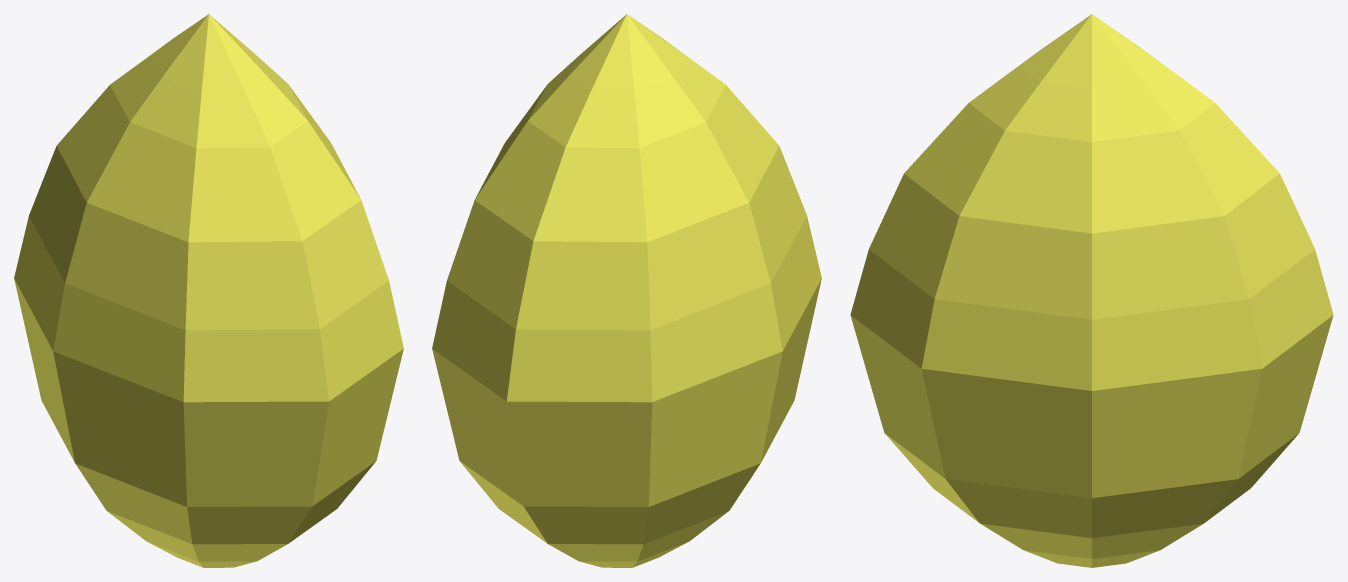
Rendered from S_yellow.fbx.
3 renders of one model, left to right at view 1: azimuth 30°, elevation 25°; view 2: azimuth 150°, elevation 25°; view 3: azimuth 270°, elevation 25°, orthographic.
Visible parts, largest first — view 1: S_yellow; view 2: S_yellow; view 3: S_yellow.
Boxes of the visible parts, x1=… form: S_yellow: x1=14, y1=14, x2=403, y2=567; S_yellow: x1=432, y1=14, x2=821, y2=567; S_yellow: x1=850, y1=14, x2=1333, y2=567.
Size of the model in its own units: 14.13 by 23.37 by 18.89.
Materials: 1 (1 with a texture image).
